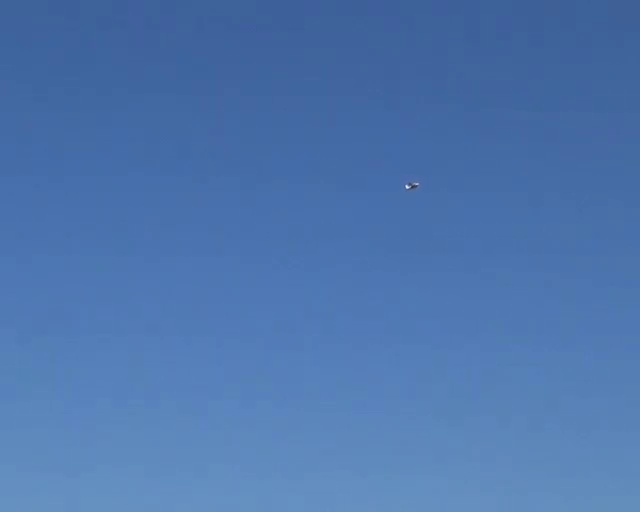AIRPLANE: (405, 181, 419, 190)
